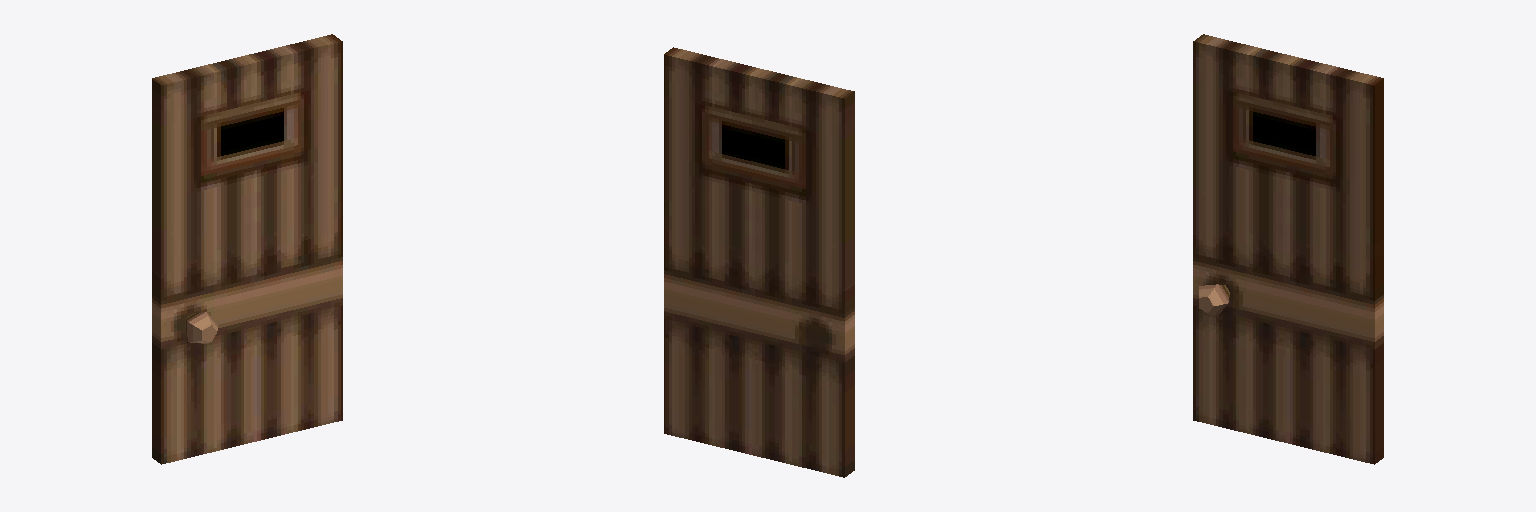
3 views of the same model, side by side, from view 1: azimuth 30°, elevation 25°; view 2: azimuth 150°, elevation 25°; view 3: azimuth 330°, elevation 25° (orthographic).
Visible parts, largest first — view 1: vsn_mesh_0_door_mesh_0_door; view 2: vsn_mesh_0_door_mesh_0_door; view 3: vsn_mesh_0_door_mesh_0_door.
Part boxes in pixels (bbox=[...]): vsn_mesh_0_door_mesh_0_door: bbox=[152, 34, 342, 464]; vsn_mesh_0_door_mesh_0_door: bbox=[664, 47, 854, 477]; vsn_mesh_0_door_mesh_0_door: bbox=[1193, 34, 1383, 464].
Bounding box in the file's own units: 0.32 × 0.64 × 0.0847.
Materials: 1 (1 with a texture image).